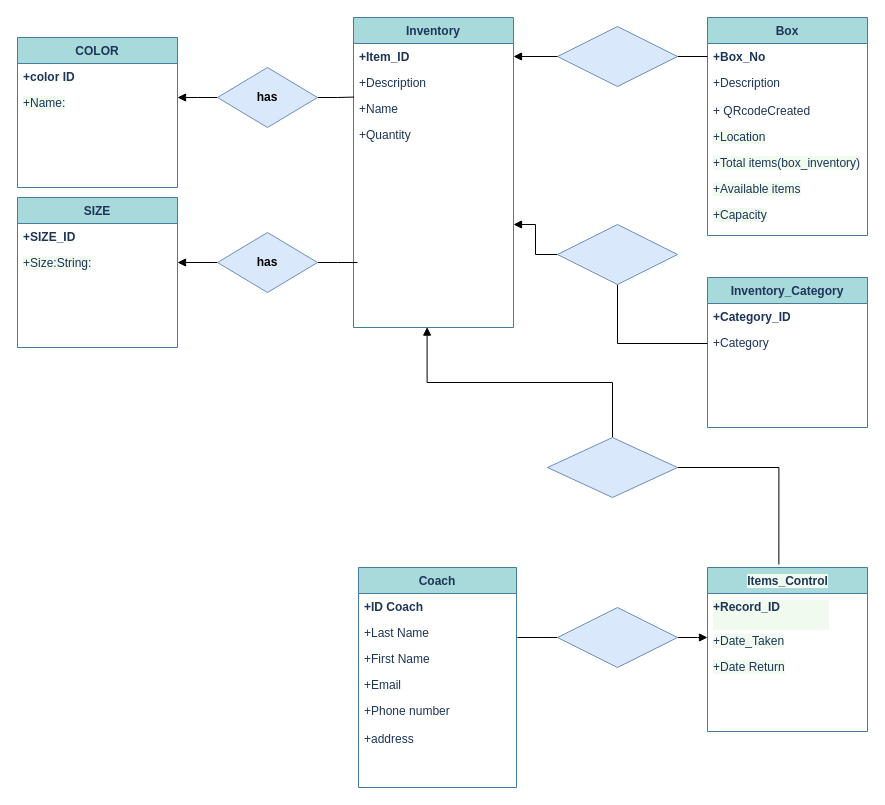
This 885x805 diagram has some shape labels left out. Each missing label, with the centre of its shape:
registers(ed): point (617, 637)
select by: point (617, 254)
Store in: point (617, 56)
tracks(ed): point (612, 467)
